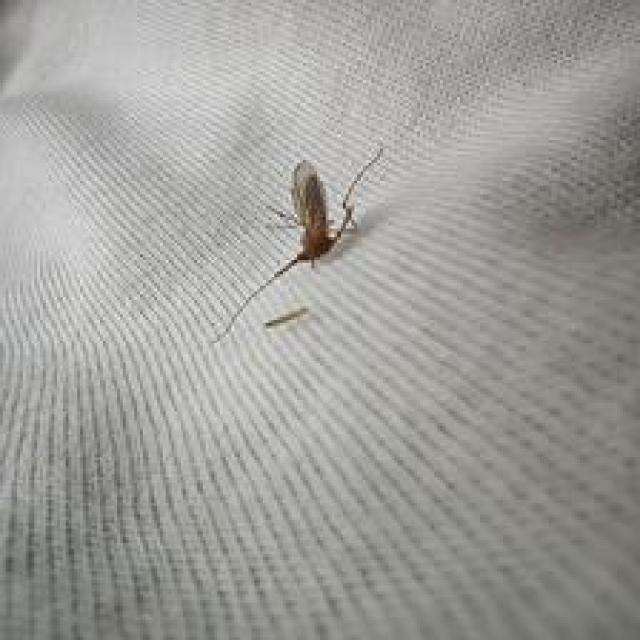Culex: (210, 144, 384, 344)
